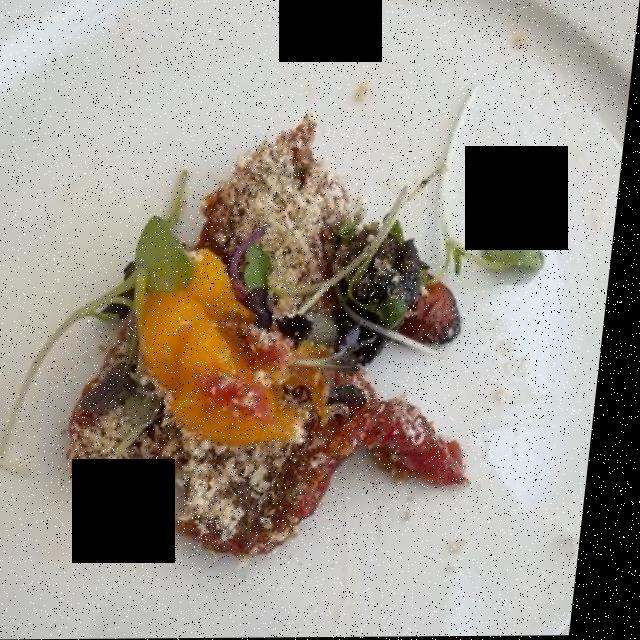capers: (106, 361, 382, 426)
shoots: (18, 150, 531, 421)
tartar-meat: (74, 127, 478, 562)
